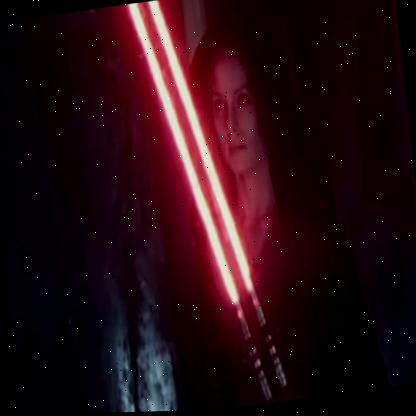sith_lightsaber: (124, 2, 275, 402), (146, 0, 293, 393)
